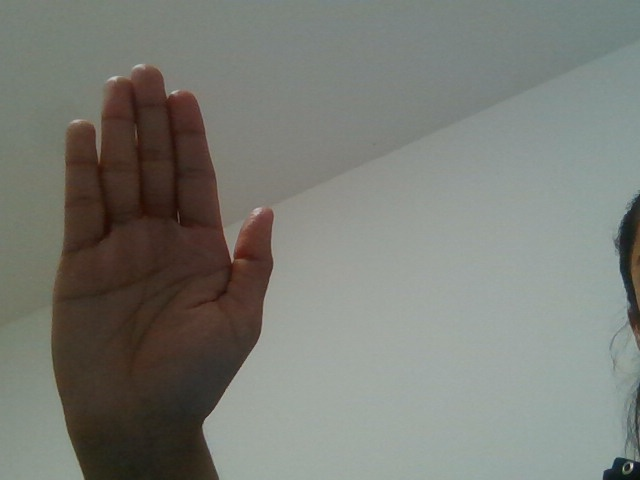Palm: (26, 60, 309, 469)
